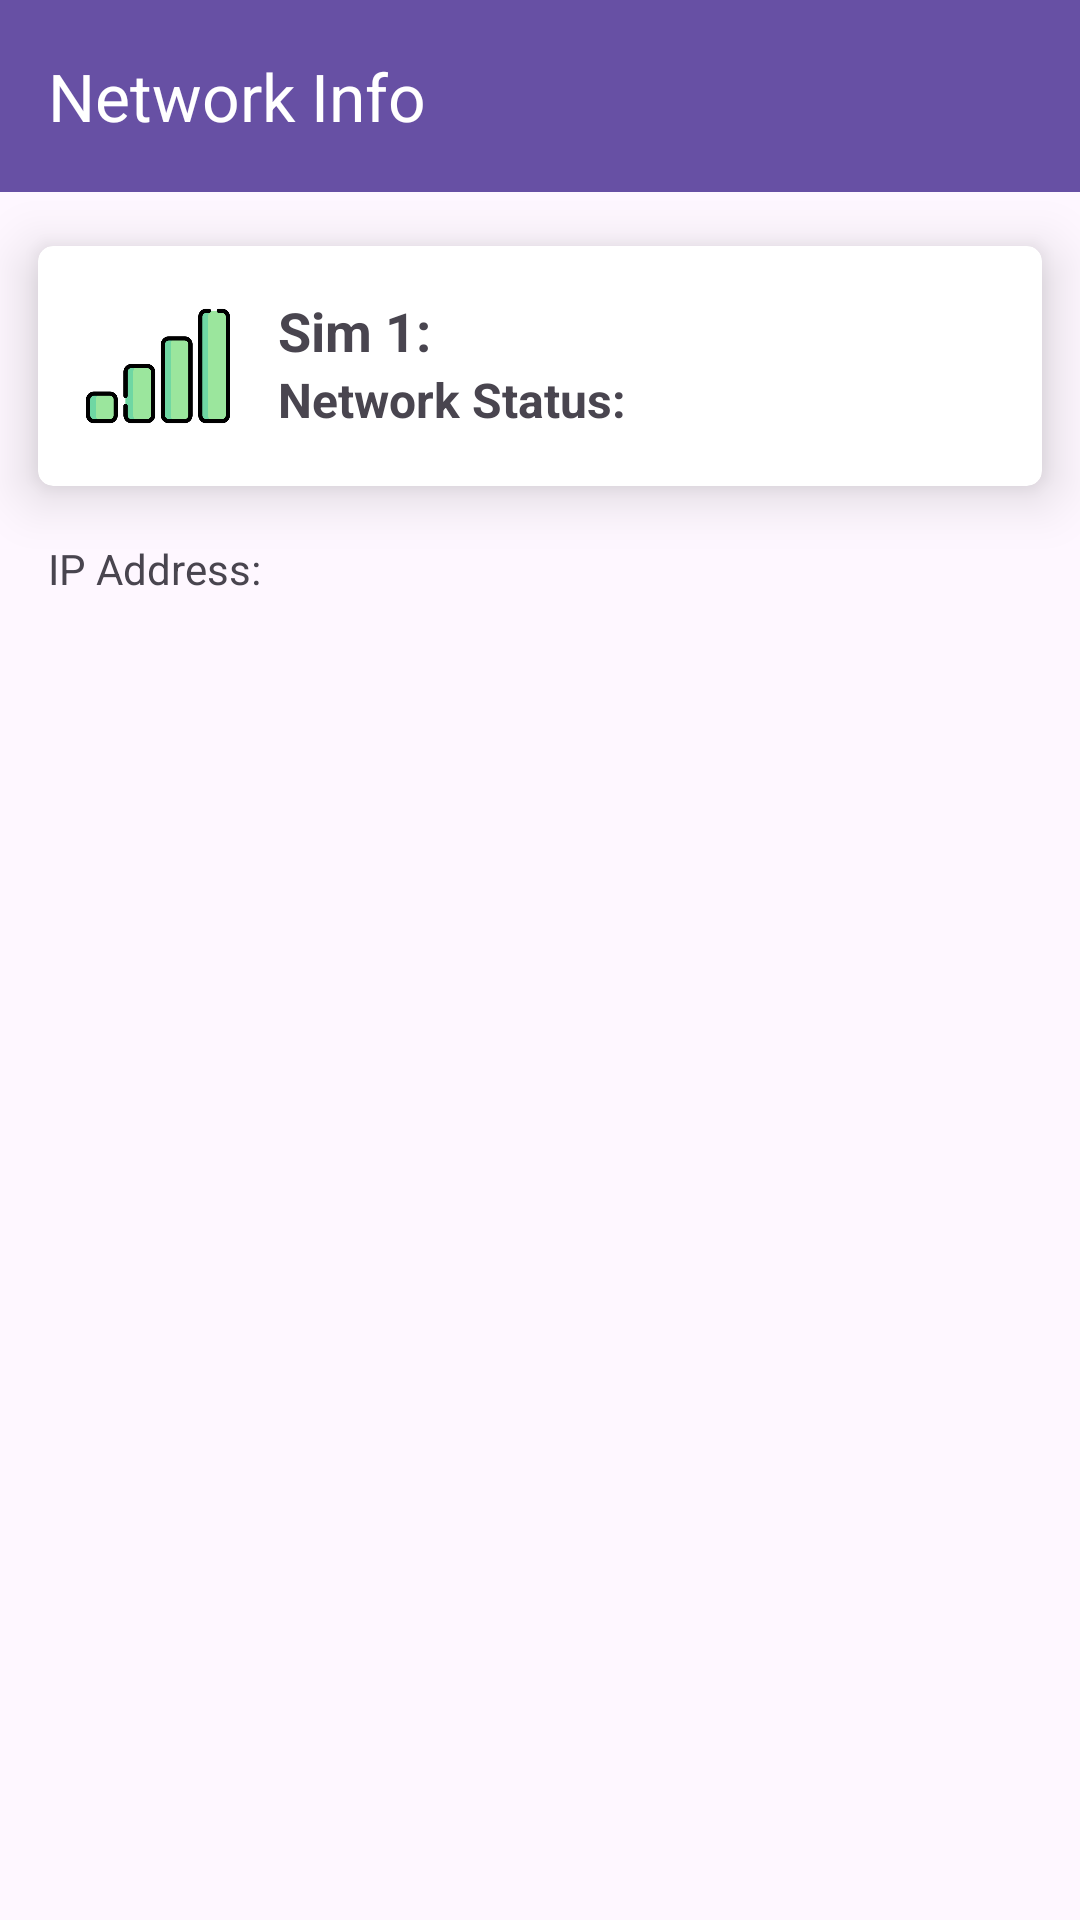

Named icons in this screenshot (1080×1920) and their bounding boxes, (x1, y1, x2, y2):
Mobile Icon: (86, 309, 230, 423)
